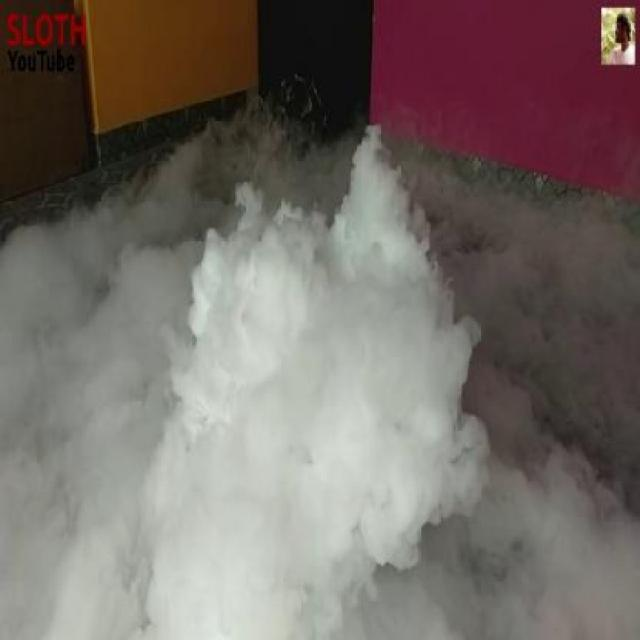smoke: (129, 194, 526, 600)
